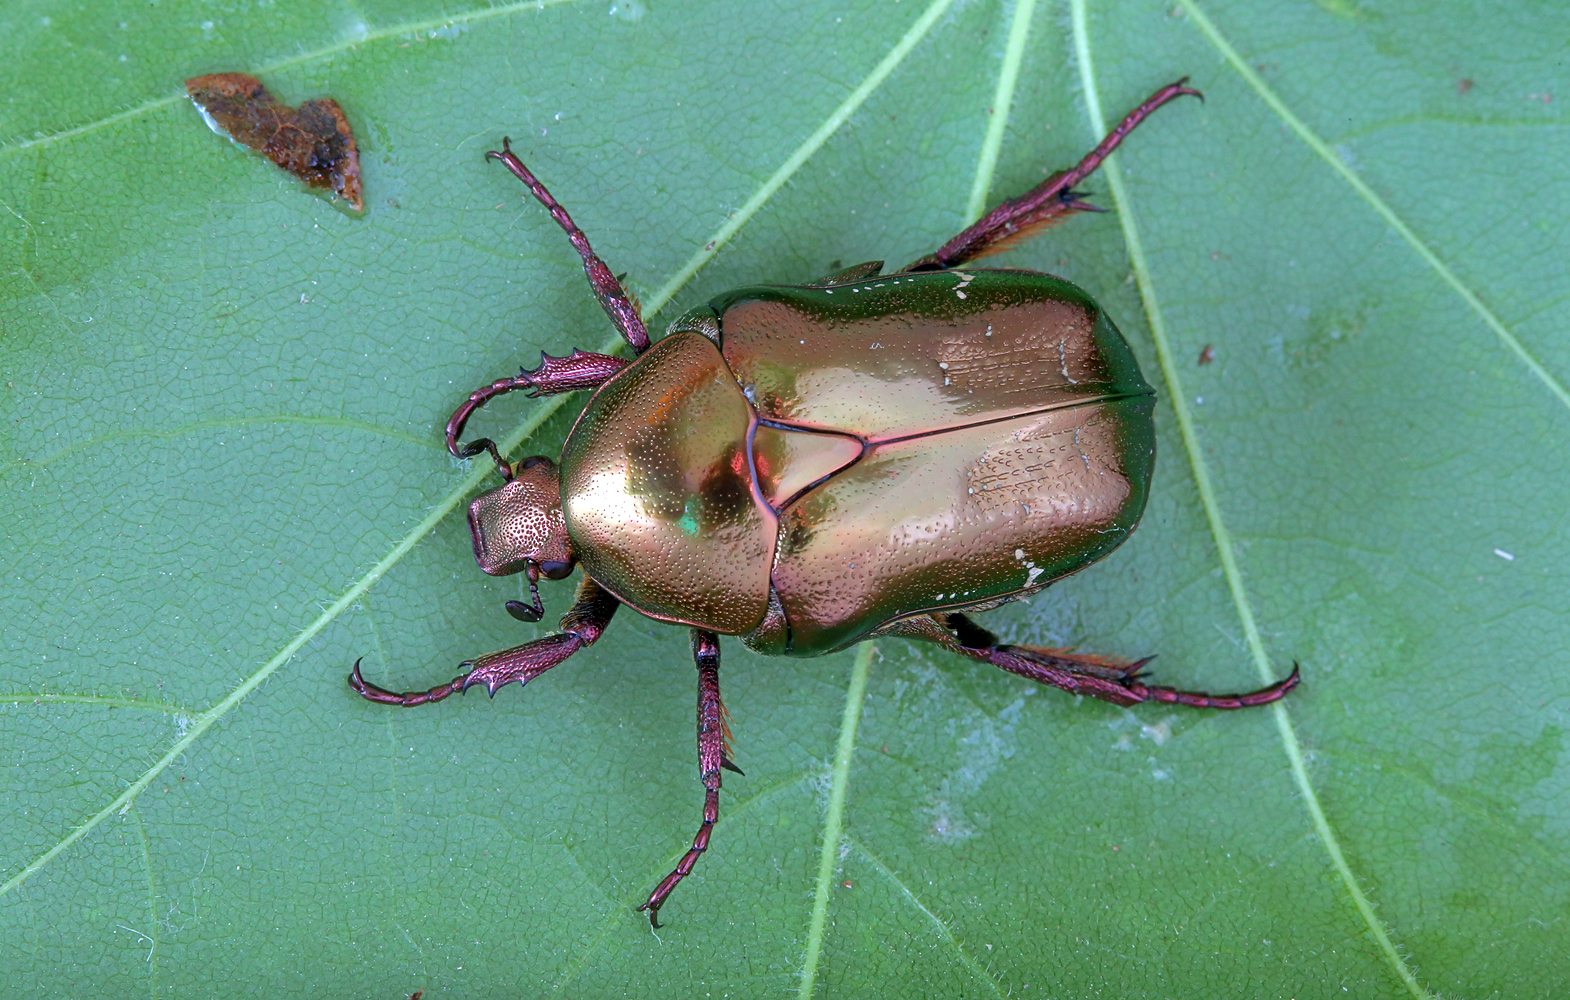Protaetia_fieberi: (342, 70, 1313, 942)
